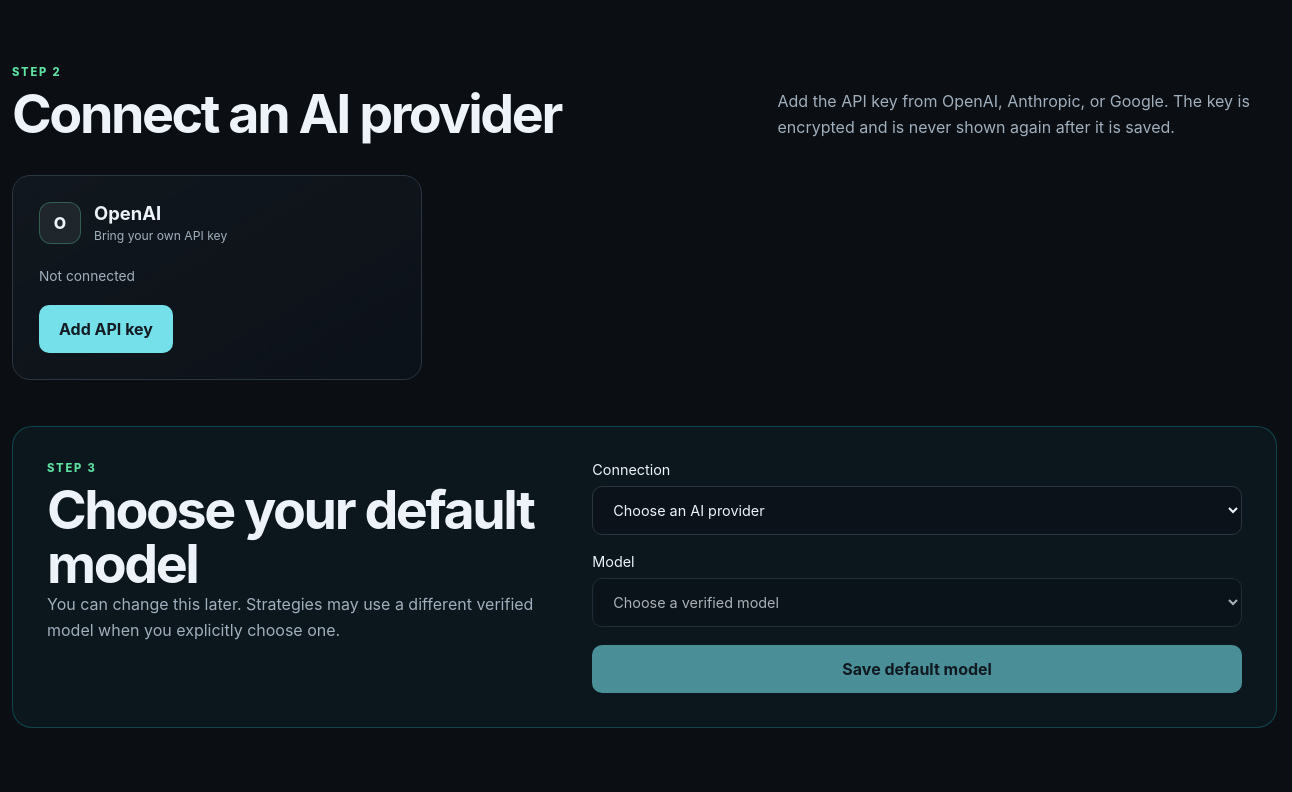
it: ConnectionsManager › makes provider connection and model choice the primary flow
Expected: the heading "Connect an AI provider" is shown, [12, 81, 561, 146]
Click the button with aria-label "Add API key for OpenAI". click: (106, 329)
box: [39, 305, 173, 353]
(page scrolled)
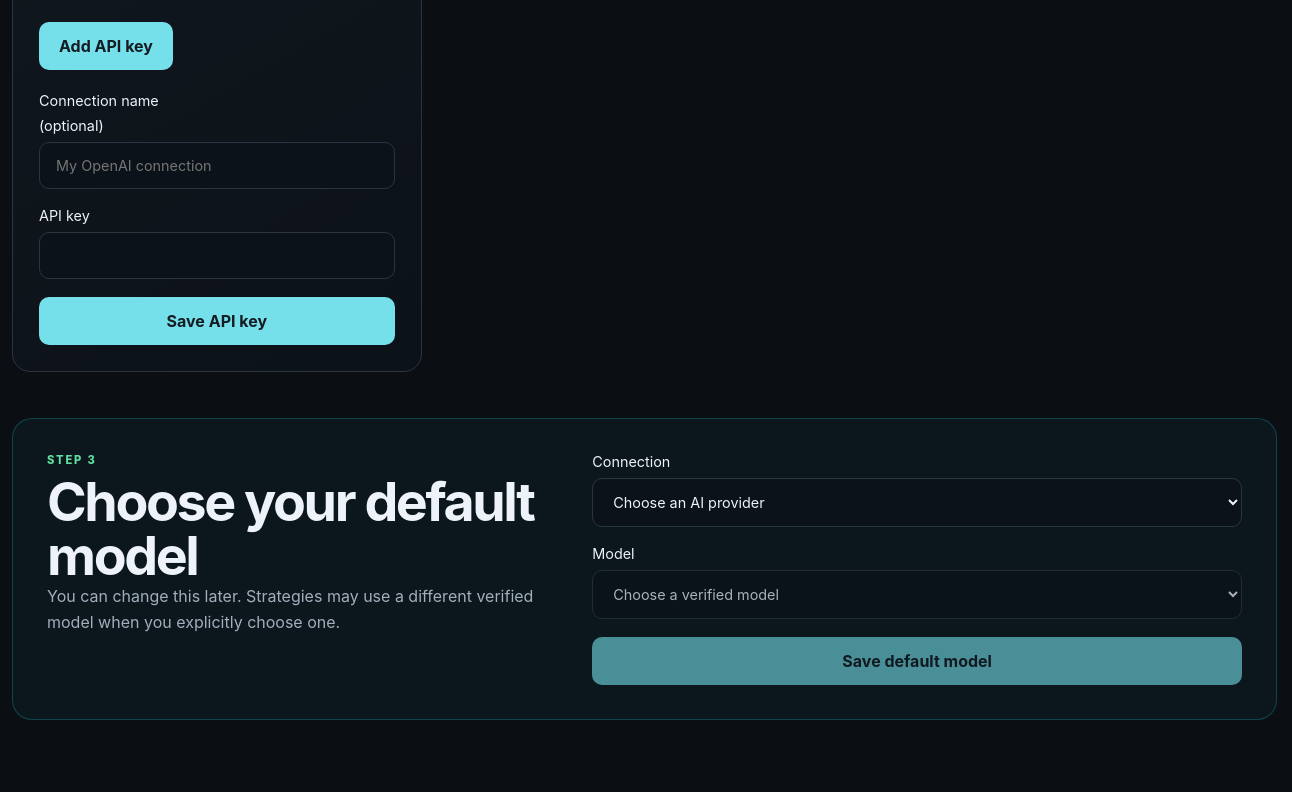
Expected: the heading "Choose your default model" is shown, [47, 475, 534, 583]
Result: the button "Save API key" is shown at [39, 297, 395, 345]
